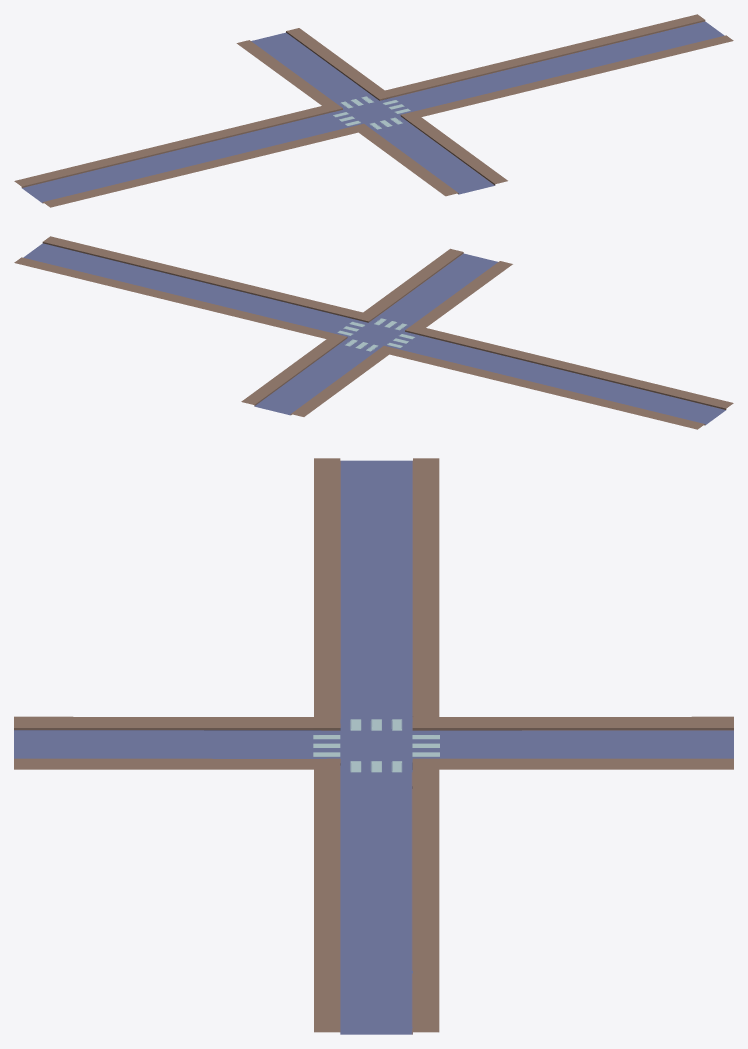
File: fbRoad.fbx
3 renders of one model, top to bottom at view 1: azimuth 30°, elevation 25°; view 2: azimuth 150°, elevation 25°; view 3: azimuth 270°, elevation 25°, orthographic. The views are drawn at different scales.
Parts seen in each view (by area): view 1: Plane.009; view 2: Plane.009; view 3: Plane.009.
Part boxes in pixels (<box>): Plane.009: <box>14,14,733,207</box>; Plane.009: <box>14,236,733,429</box>; Plane.009: <box>14,458,733,1034</box>.
Bounding box in the file's own units: 9593 × 19.67 × 5086.
